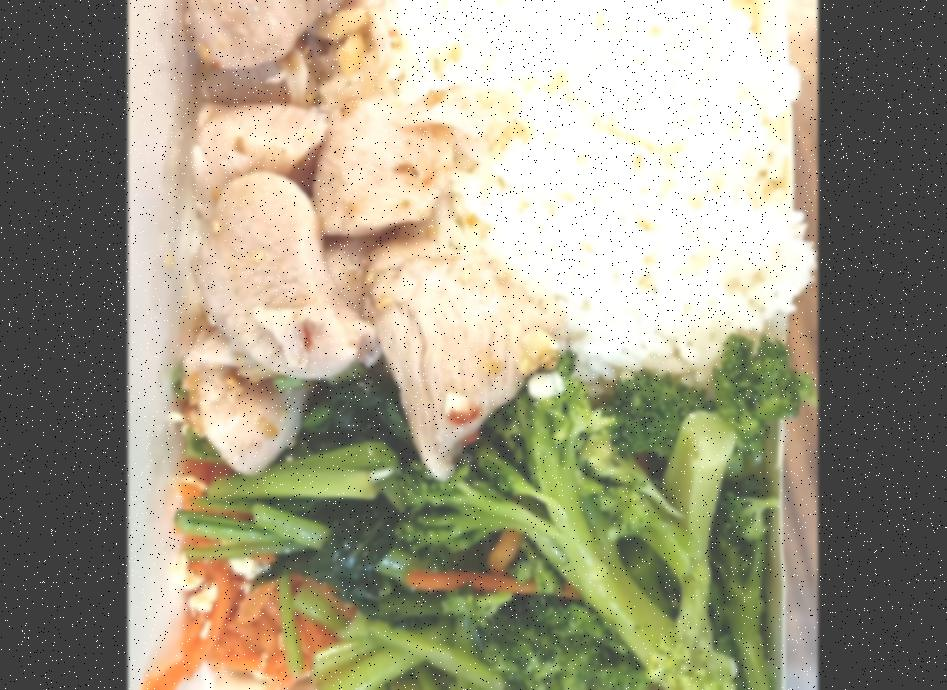box: (195, 0, 805, 690)
scallion chicken: (177, 0, 558, 471)
side dish: (405, 337, 784, 690), (175, 357, 552, 690), (165, 474, 340, 690)
white rice: (366, 0, 811, 379)
